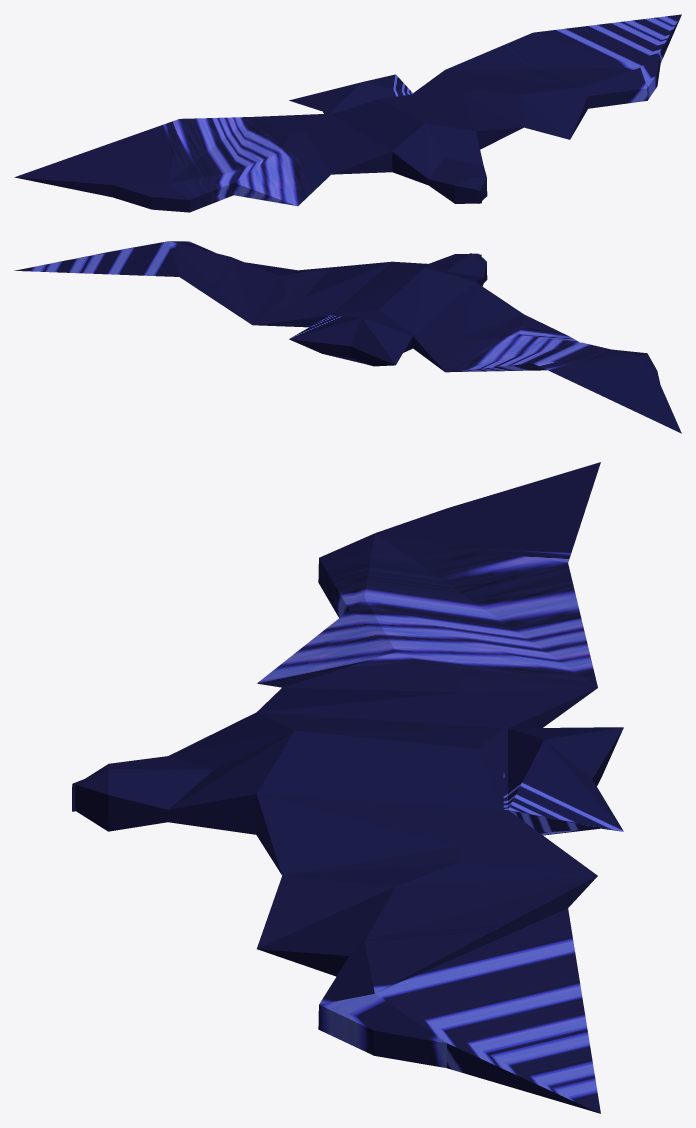
The model's file is bat.fbx.
3 renders of one model, top to bottom at view 1: azimuth 30°, elevation 25°; view 2: azimuth 150°, elevation 25°; view 3: azimuth 270°, elevation 25°, orthographic. The views are drawn at different scales.
Parts seen in each view (by area): view 1: Plane; view 2: Plane; view 3: Plane.
Boxes of the visible parts, left/top/right/bottom form: Plane: left=14, top=14, right=681, bottom=212; Plane: left=14, top=241, right=681, bottom=433; Plane: left=72, top=462, right=623, bottom=1113.
Bounding box in the file's own units: 1597 × 121 × 572.
